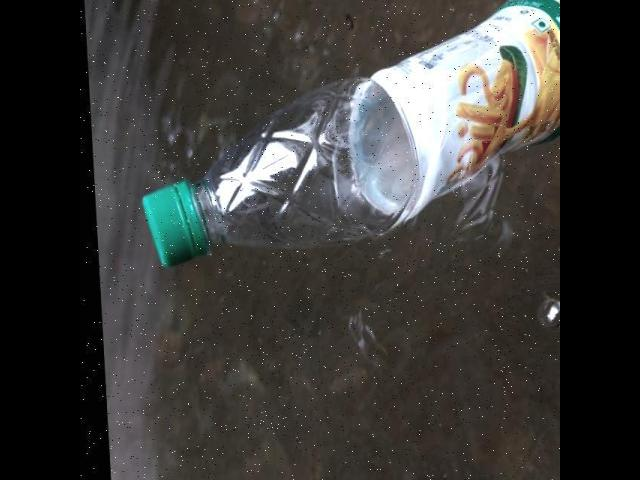Bottle: (132, 0, 560, 279)
